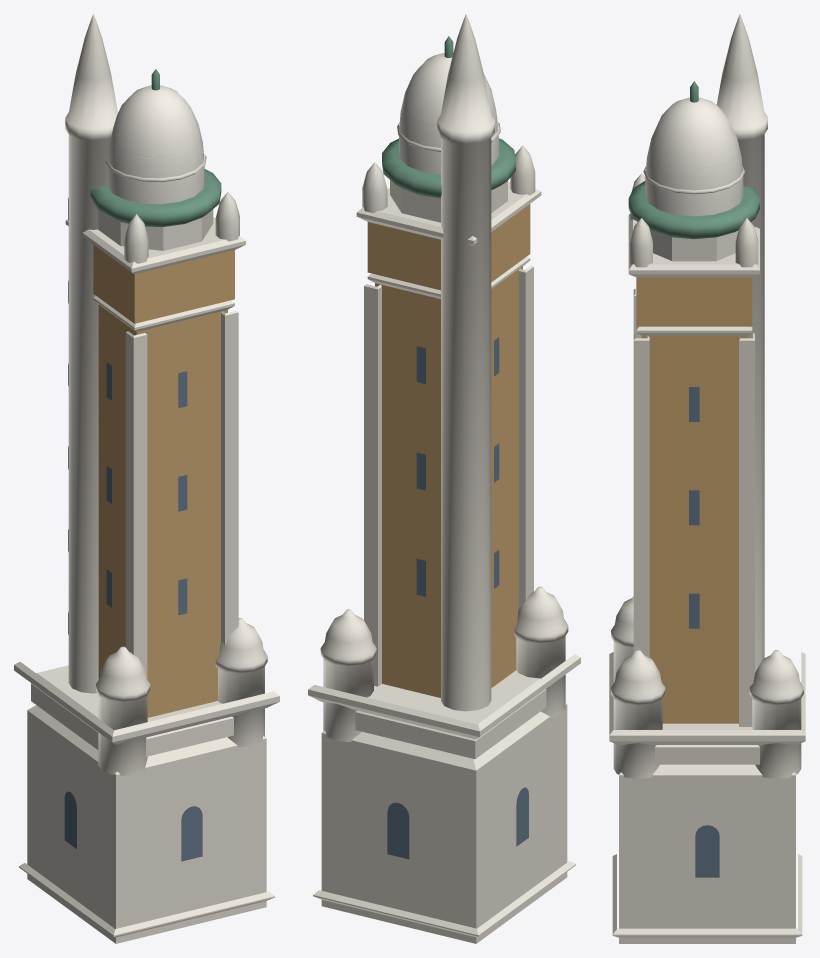
Rendered from stl-compton-hill-water-tower.glb.
3 renders of one model, left to right at view 1: azimuth 30°, elevation 25°; view 2: azimuth 150°, elevation 25°; view 3: azimuth 270°, elevation 25°, orthographic. The views are drawn at different scales.
Parts seen in each view (by area): view 1: Compton Hill Water Tower; view 2: Compton Hill Water Tower; view 3: Compton Hill Water Tower.
Part boxes in pixels (x1,y1,x2,y2): Compton Hill Water Tower: [14, 14, 279, 943]; Compton Hill Water Tower: [308, 14, 580, 943]; Compton Hill Water Tower: [609, 14, 805, 943].
Size of the model in its own units: 11 by 55 by 11.2.
